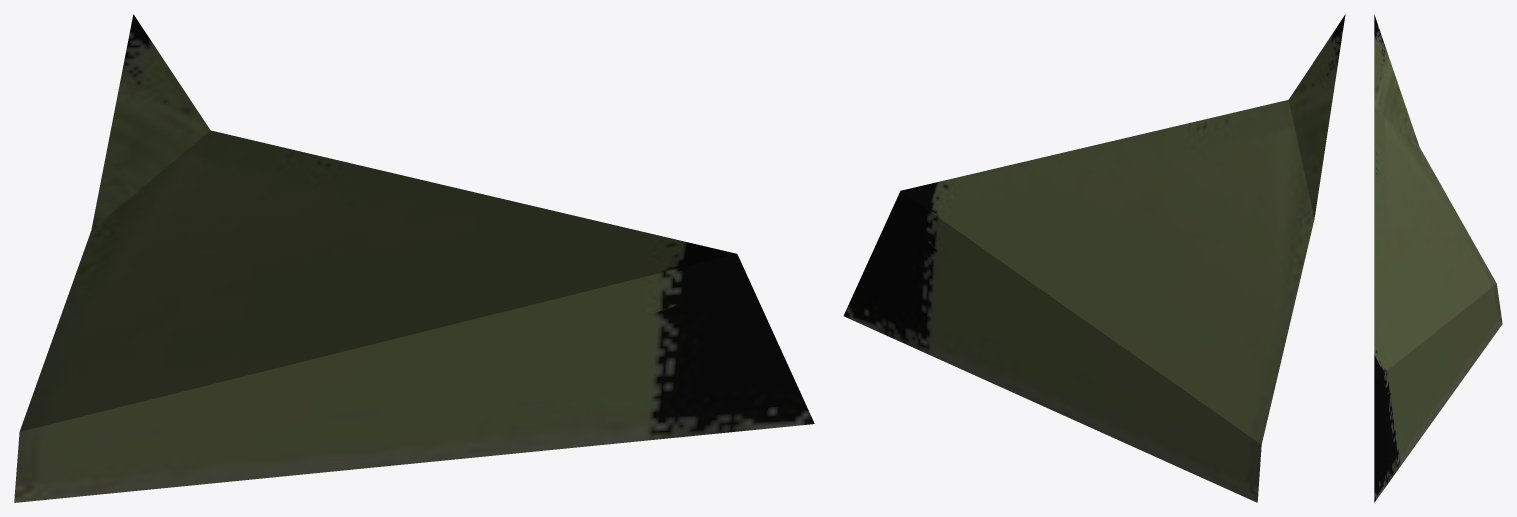
3 views of the same model, side by side, from view 1: azimuth 30°, elevation 25°; view 2: azimuth 150°, elevation 25°; view 3: azimuth 270°, elevation 25° (orthographic). The views are drawn at different scales.
Size of the model in its own units: 3.68 by 2.97 by 1.12.
Materials: 1 (1 with a texture image).
